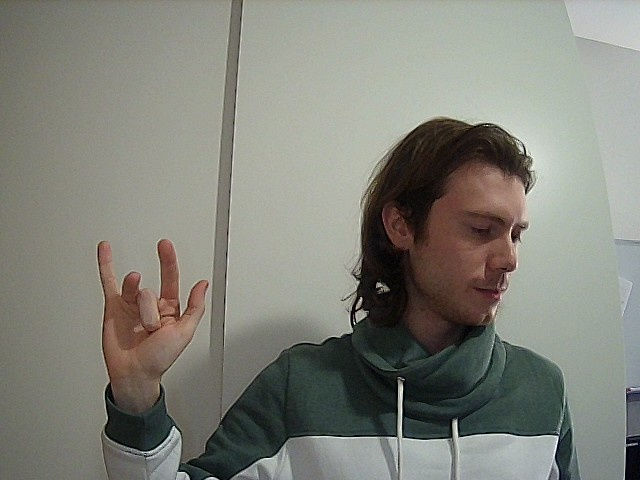reset: (80, 231, 213, 374)
